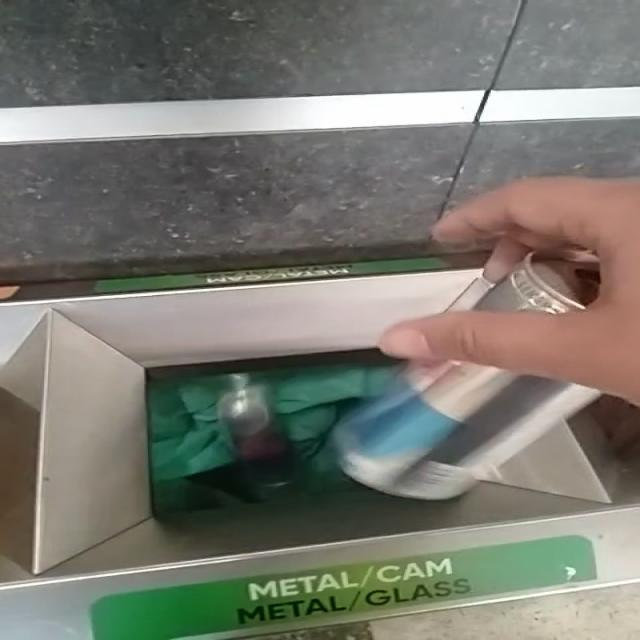metal: (333, 362, 603, 501), (448, 251, 600, 314), (219, 374, 280, 463)
